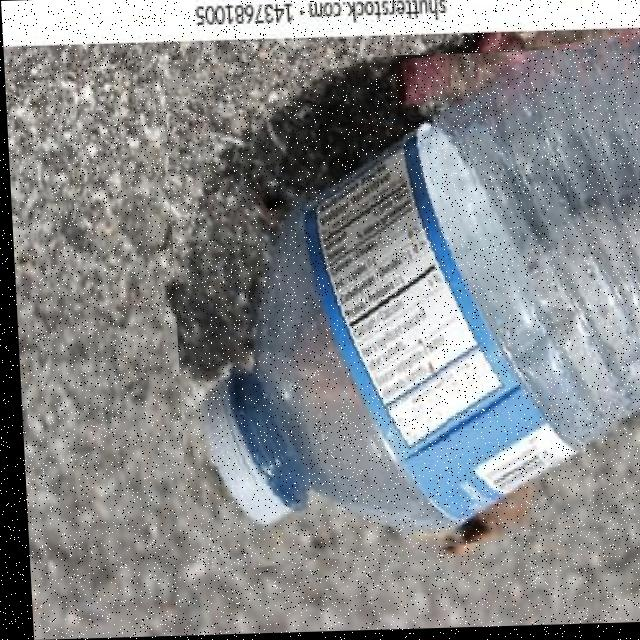plasticbottle: (162, 50, 640, 563)
plasticbottlecap: (181, 348, 300, 566)
